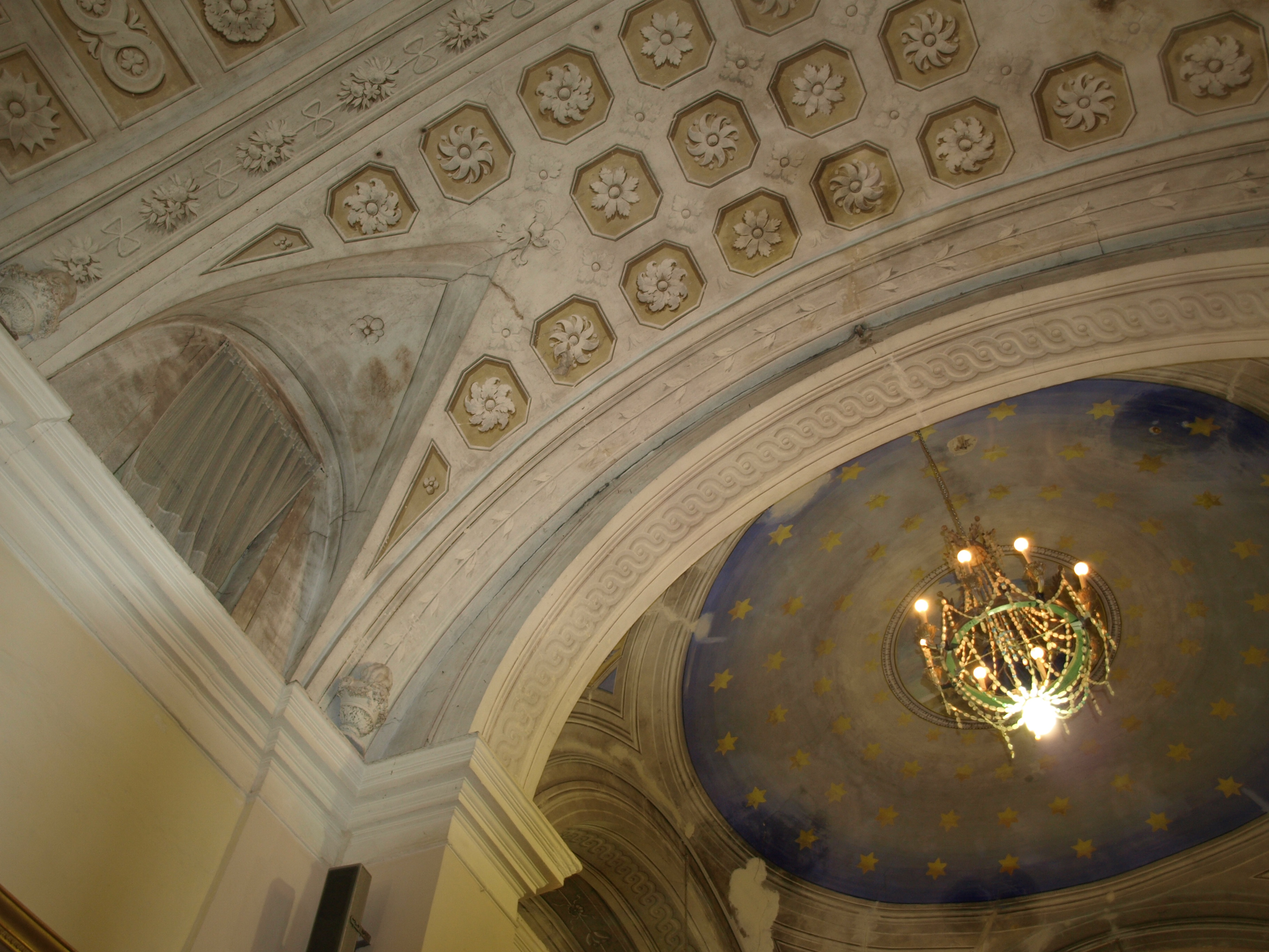Crack: (413, 171, 1243, 680)
